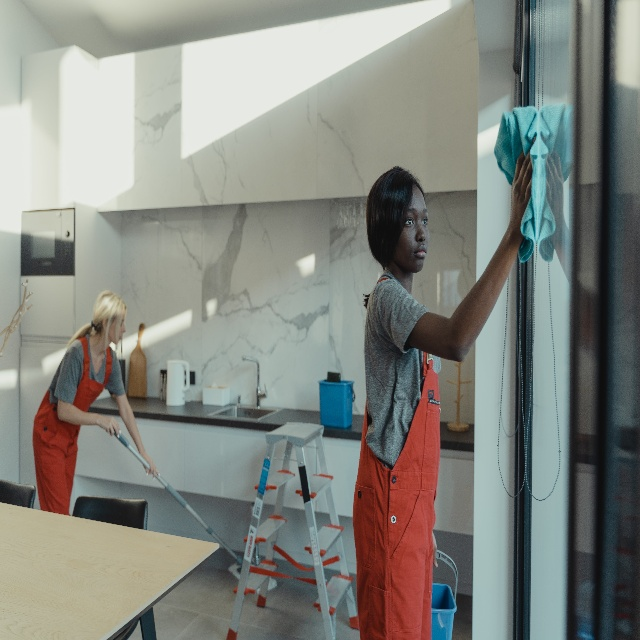Sin_guantes: (508, 151, 532, 241), (140, 450, 160, 480), (98, 414, 121, 438), (432, 532, 438, 567)
